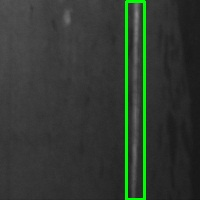scratches: (126, 1, 144, 199)
